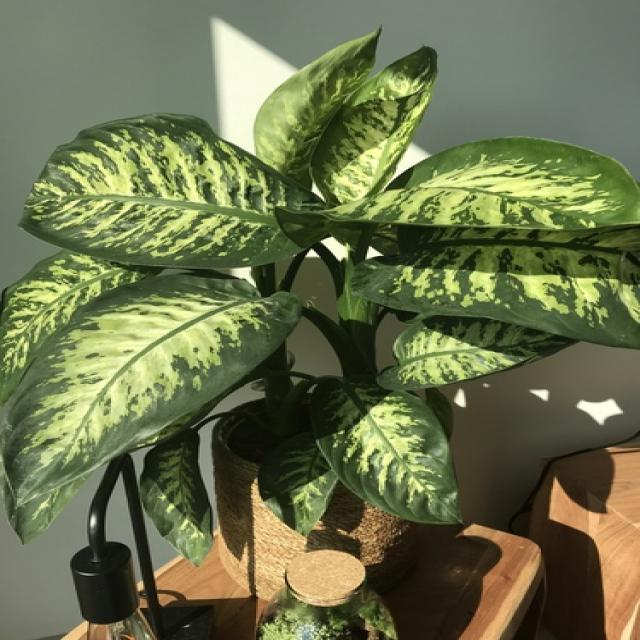dieffenbachia-oVHx: (0, 24, 640, 567)
